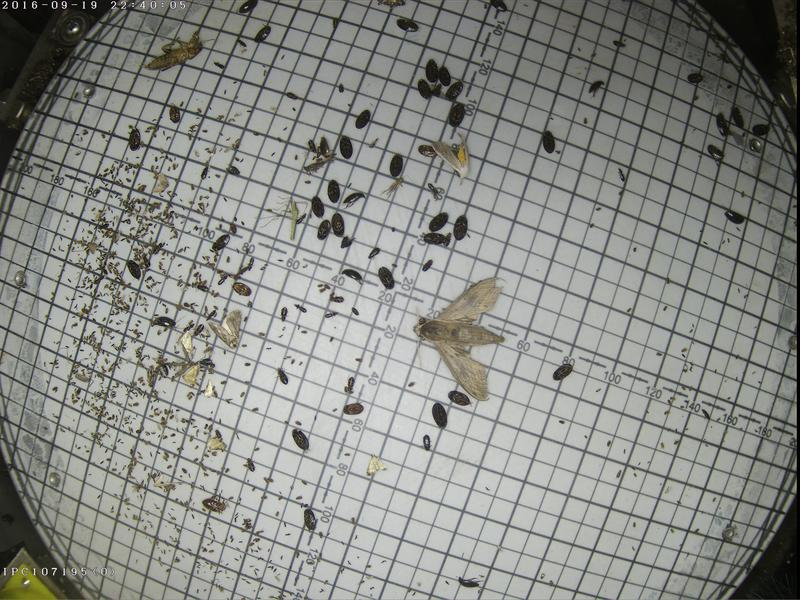Gryllotalpa orientalis: (140, 33, 207, 71)
Rice Leaf Roller: (365, 452, 385, 474), (204, 432, 224, 452), (181, 366, 198, 383)
